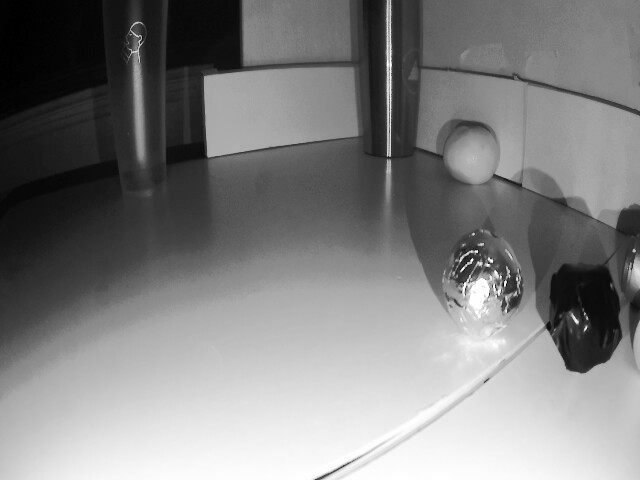black: (548, 262, 623, 369)
silver: (439, 229, 516, 345)
